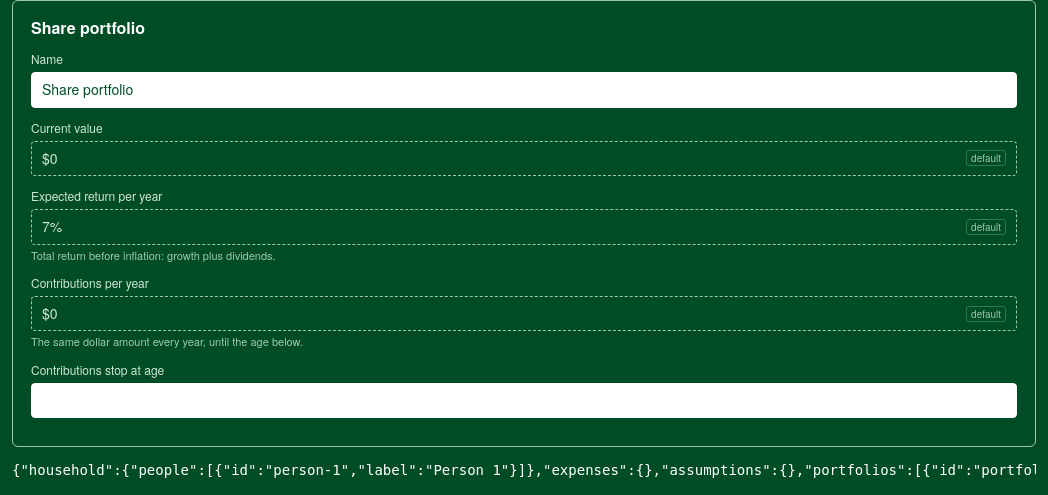
Test: PortfolioSection › stores a typed value in the plan and shows it formatted
The width and height of the screenshot is (1048, 495).
Type "720000" into the field labelled "Current value". click: [501, 158]
box: [42, 149, 960, 168]
Then press Enter
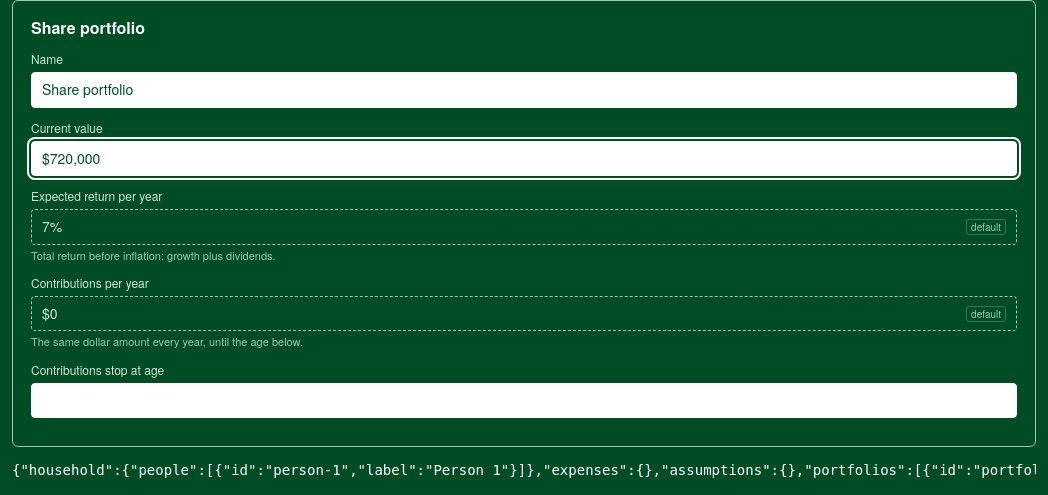
expect the field labelled "Current value" holds "$720,000": met, box [42, 149, 1006, 168]
